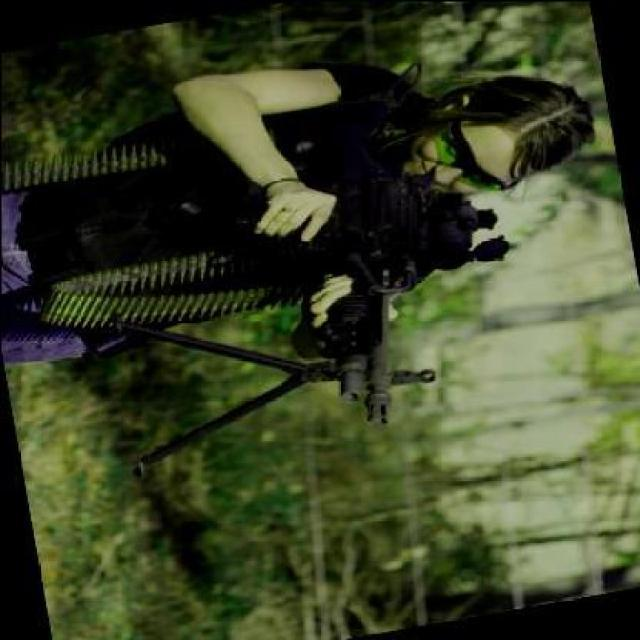rifle: (168, 26, 605, 624)
